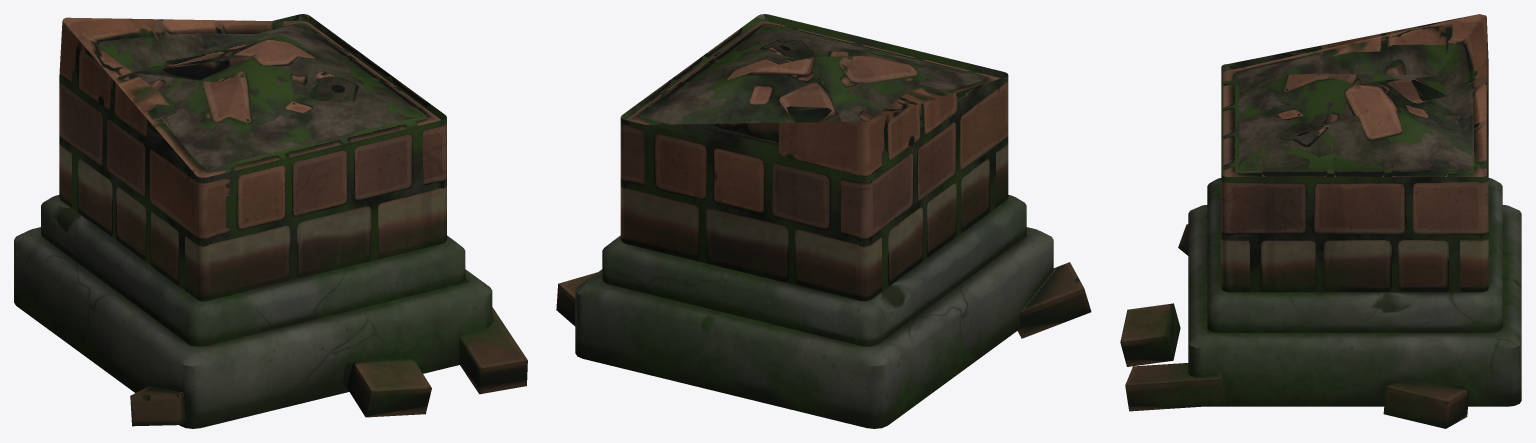
Rendered from sunken_pillar_low.glb.
3 renders of one model, left to right at view 1: azimuth 30°, elevation 25°; view 2: azimuth 150°, elevation 25°; view 3: azimuth 270°, elevation 25°, orthographic. The views are drawn at different scales.
Visible parts, largest first — view 1: sunken_pillar_low; view 2: sunken_pillar_low; view 3: sunken_pillar_low.
Part boxes in pixels (left/top/right/bottom): sunken_pillar_low: left=14, top=14, right=527, bottom=428; sunken_pillar_low: left=556, top=14, right=1091, bottom=428; sunken_pillar_low: left=1120, top=14, right=1521, bottom=428.
Size of the model in its own units: 1.84 by 1.29 by 1.69.
1 material, 1 textured.
